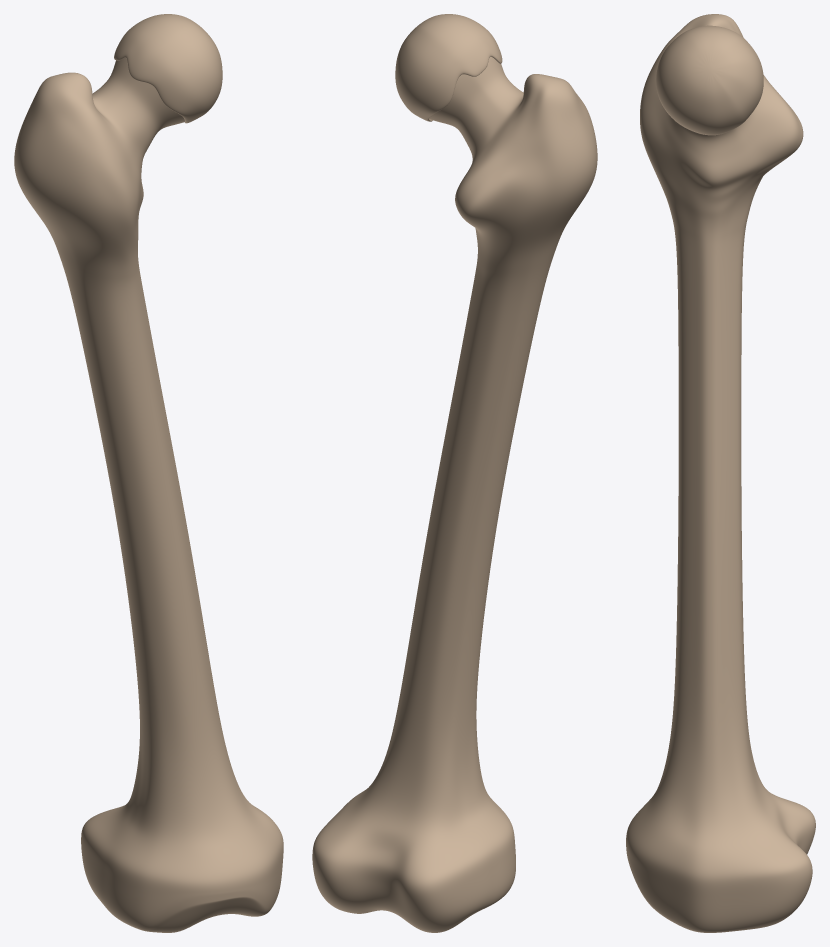
File: FEMUR.fbx
3 renders of one model, left to right at view 1: azimuth 30°, elevation 25°; view 2: azimuth 150°, elevation 25°; view 3: azimuth 270°, elevation 25°, orthographic. The views are drawn at different scales.
Visible parts, largest first — view 1: Cylinder; view 2: Cylinder; view 3: Cylinder.
Part boxes in pixels (x1,y1,x2,y2): Cylinder: (14,14,283,932); Cylinder: (312,14,597,932); Cylinder: (626,14,815,932).
Size of the model in its own units: 39.4 by 134 by 26.72.
